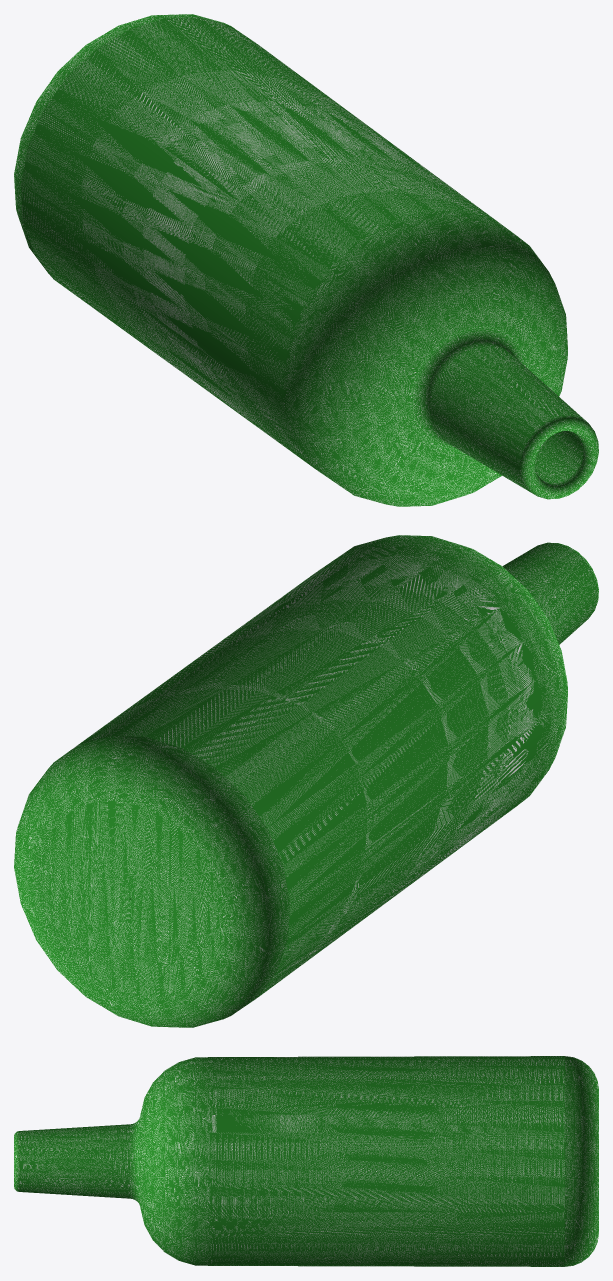
The model's file is model_scale.obj.
3 renders of one model, top to bottom at view 1: azimuth 30°, elevation 25°; view 2: azimuth 150°, elevation 25°; view 3: azimuth 270°, elevation 25°, orthographic. The views are drawn at different scales.
Parts seen in each view (by area): view 1: mesh1_mesh1-geometry; view 2: mesh1_mesh1-geometry; view 3: mesh1_mesh1-geometry.
Part boxes in pixels (x1=…): mesh1_mesh1-geometry: x1=14, y1=14, x2=598, y2=506; mesh1_mesh1-geometry: x1=14, y1=535, x2=598, y2=1027; mesh1_mesh1-geometry: x1=14, y1=1056, x2=598, y2=1266.
Bounding box in the file's own units: 0.0856 × 0.0856 × 0.238.
